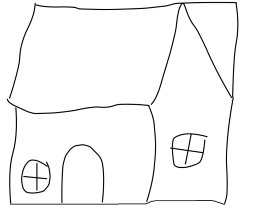big_house: (0, 0, 259, 208)
closed_window: (167, 127, 212, 173), (18, 153, 56, 196)
door: (56, 134, 108, 207)
roof: (4, 2, 240, 114)
wall: (6, 96, 160, 208)
